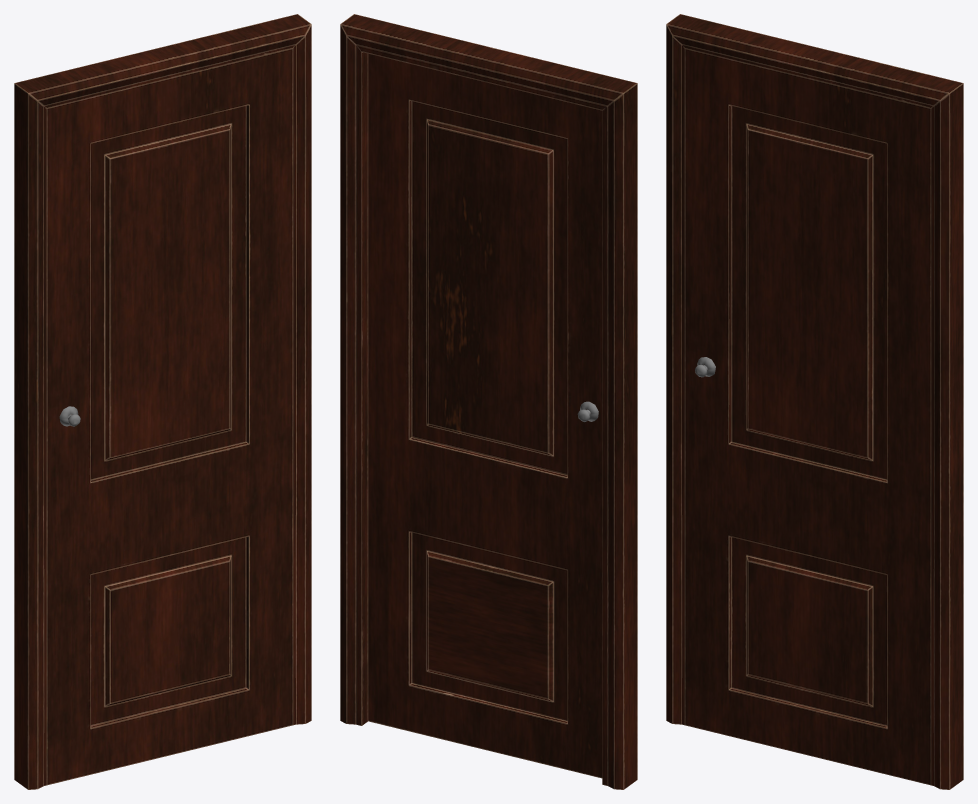
Rendered from door2.glb.
3 views of the same model, side by side, from view 1: azimuth 30°, elevation 25°; view 2: azimuth 150°, elevation 25°; view 3: azimuth 330°, elevation 25° (orthographic).
Visible parts, largest first — view 1: Object_2; view 2: Object_2; view 3: Object_2.
Boxes of the visible parts, x1,y1,x2,y2 form: Object_2: (14, 14, 311, 789); Object_2: (340, 14, 637, 789); Object_2: (666, 14, 963, 789).
Bounding box in the file's own units: 0.92 × 2.16 × 0.131.
Materials: 1 (1 with a texture image).
